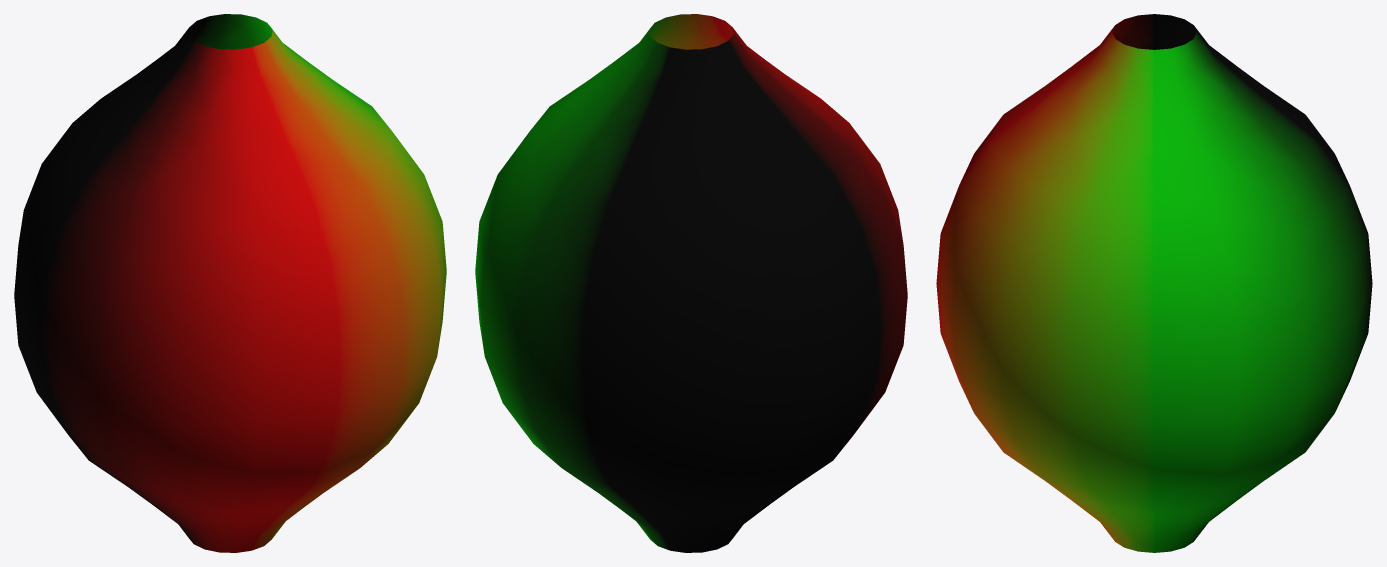
The model's file is uni_bubble.fbx.
The picture shows the model from 3 angles, left to right: view 1: azimuth 30°, elevation 25°; view 2: azimuth 150°, elevation 25°; view 3: azimuth 270°, elevation 25°; orthographic projection.
Visible parts, largest first — view 1: uni_shield; view 2: uni_shield; view 3: uni_shield.
Boxes of the visible parts, x1=… form: uni_shield: x1=14, y1=14, x2=446, y2=552; uni_shield: x1=475, y1=14, x2=907, y2=552; uni_shield: x1=936, y1=14, x2=1372, y2=552.
Size of the model in its own units: 17600 by 22400 by 17600.
